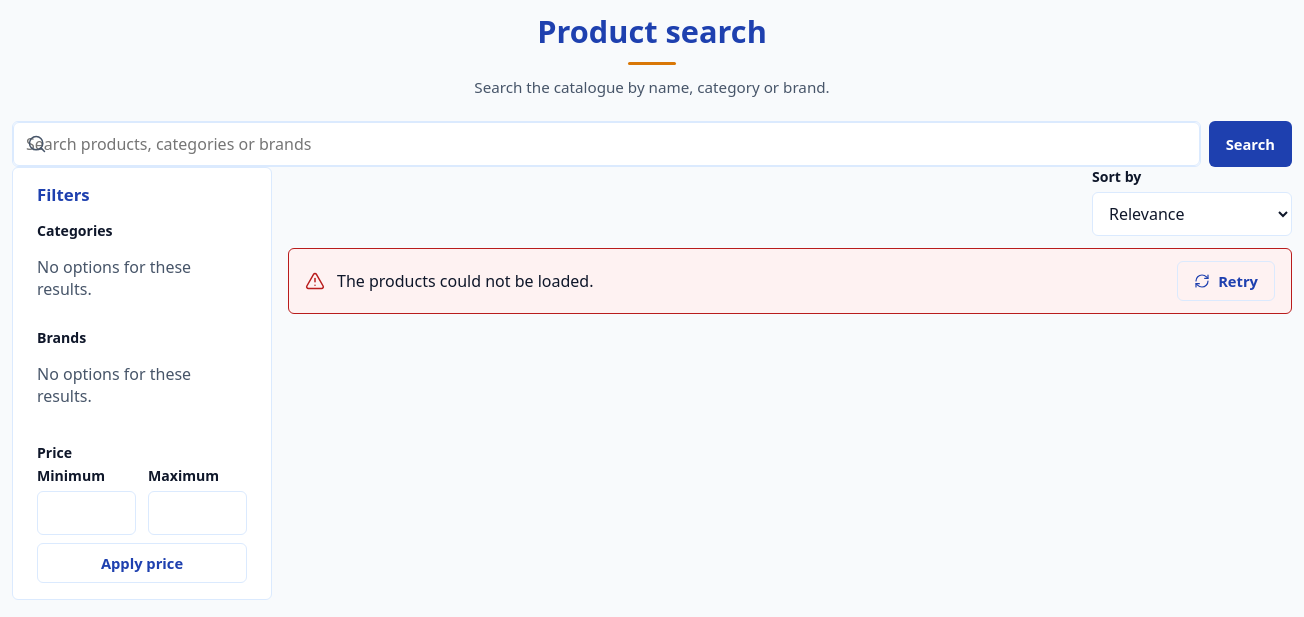
Test: a failed search shows an error with a retry button that asks again
Expected: the text "The products could not be loaded." is shown, [337, 270, 594, 292]
Click the button "Retry".
click(1226, 281)  # box [1177, 261, 1275, 301]
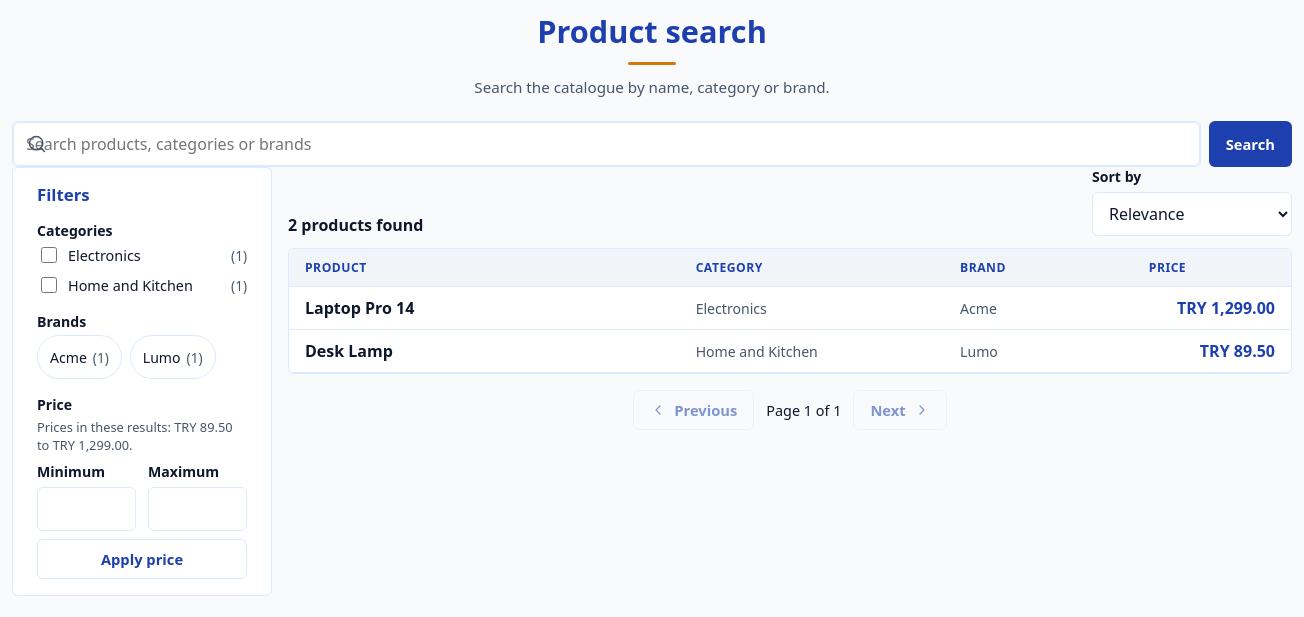
Expected: the list named "Products" is shown, [288, 248, 1292, 374]
